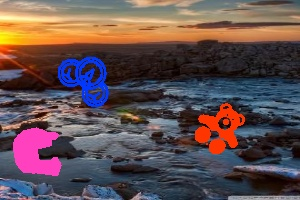三个圆: (60, 55, 110, 106)
吃豆人: (11, 127, 62, 177)
小熊: (194, 104, 243, 152)
